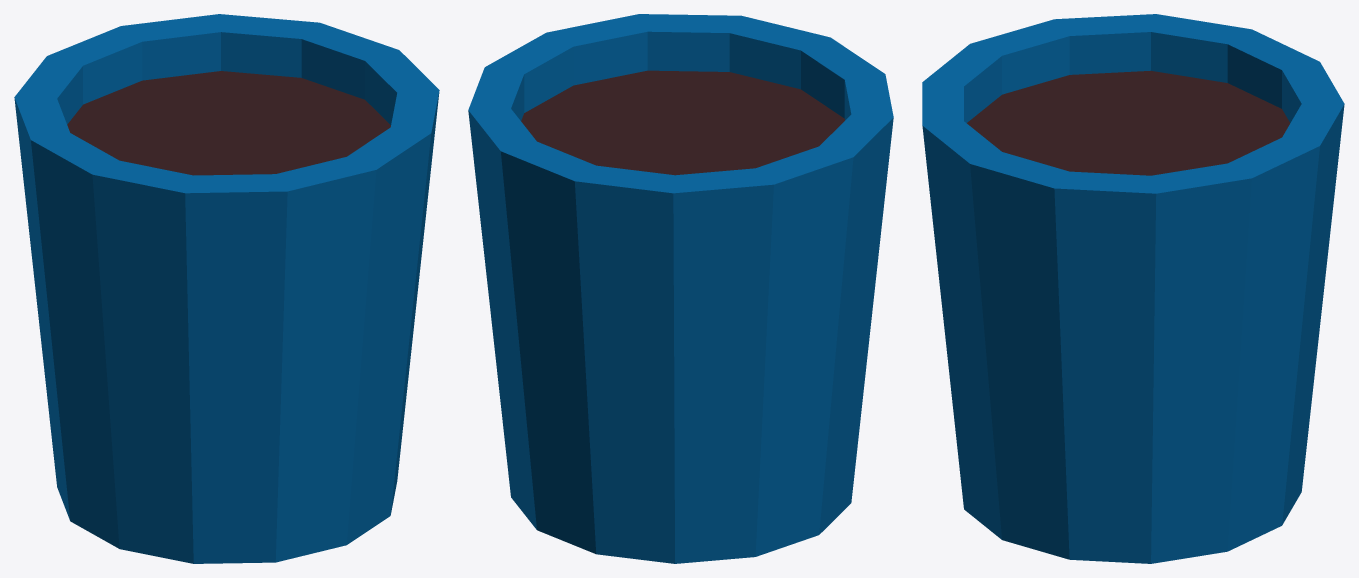
Rendered from plant-pot.glb.
3 views of the same model, side by side, from view 1: azimuth 30°, elevation 25°; view 2: azimuth 150°, elevation 25°; view 3: azimuth 270°, elevation 25° (orthographic).
Visible parts, largest first — view 1: Cylinder; view 2: Cylinder; view 3: Cylinder.
Part boxes in pixels (x1,y1,x2,y2): Cylinder: (14,14,439,563); Cylinder: (468,14,893,563); Cylinder: (922,14,1344,563).
Bounding box in the file's own units: 0.9927 × 1 × 0.9855.
